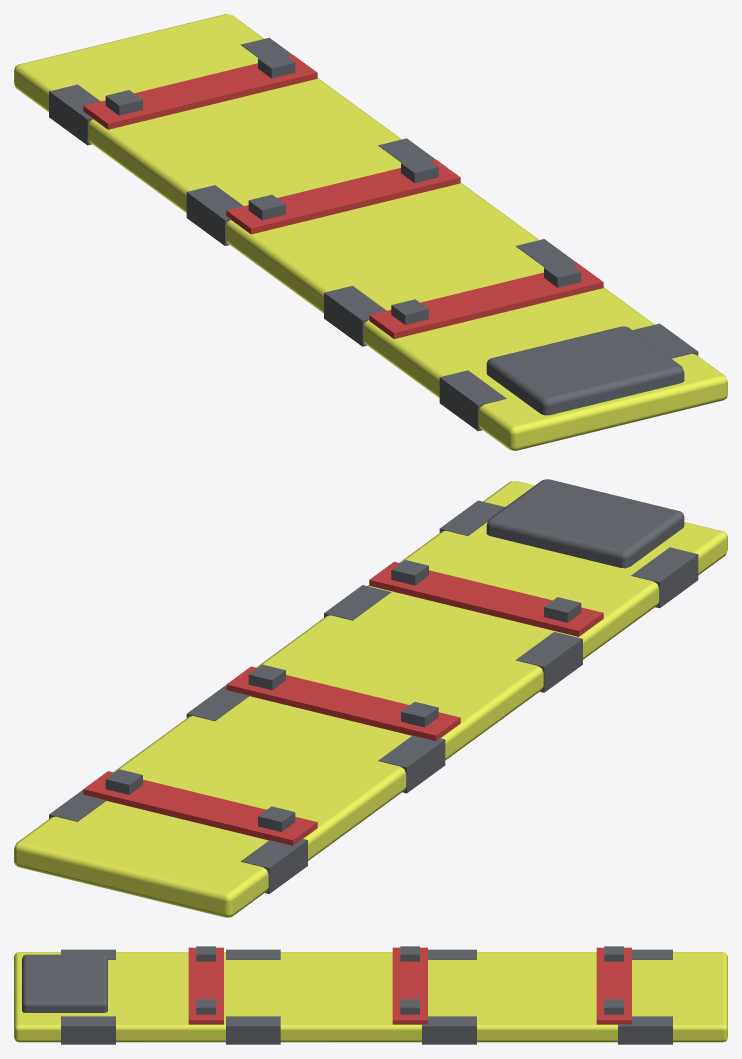
File: fire-and-emergency-services-spinal-board-b87881e9__29924.glb
3 renders of one model, top to bottom at view 1: azimuth 30°, elevation 25°; view 2: azimuth 150°, elevation 25°; view 3: azimuth 270°, elevation 25°, orthographic. The views are drawn at different scales.
Parts seen in each view (by area): view 1: spinal-board; view 2: spinal-board; view 3: spinal-board.
Part boxes in pixels (x1=…): spinal-board: x1=14, y1=14, x2=727, y2=450; spinal-board: x1=14, y1=479, x2=727, y2=917; spinal-board: x1=14, y1=946, x2=727, y2=1044.
Bounding box in the file's own units: 0.4625 × 0.0831 × 1.82.
